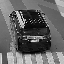motor: (15, 6, 50, 56)
